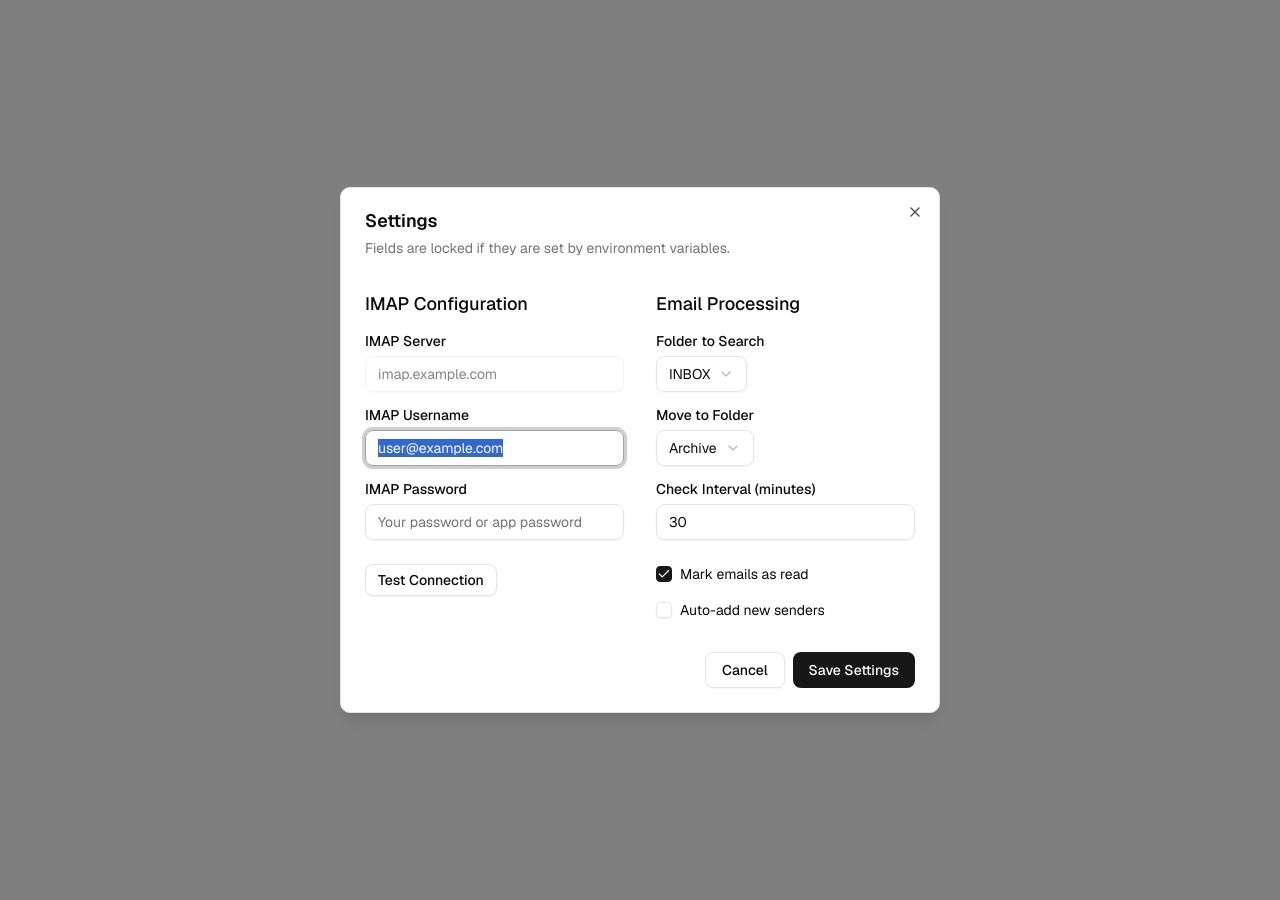
Scenario: SettingsDialog › handles failed connection test
Click the button "Test Connection" at (431,580), box [365,564,497,596]
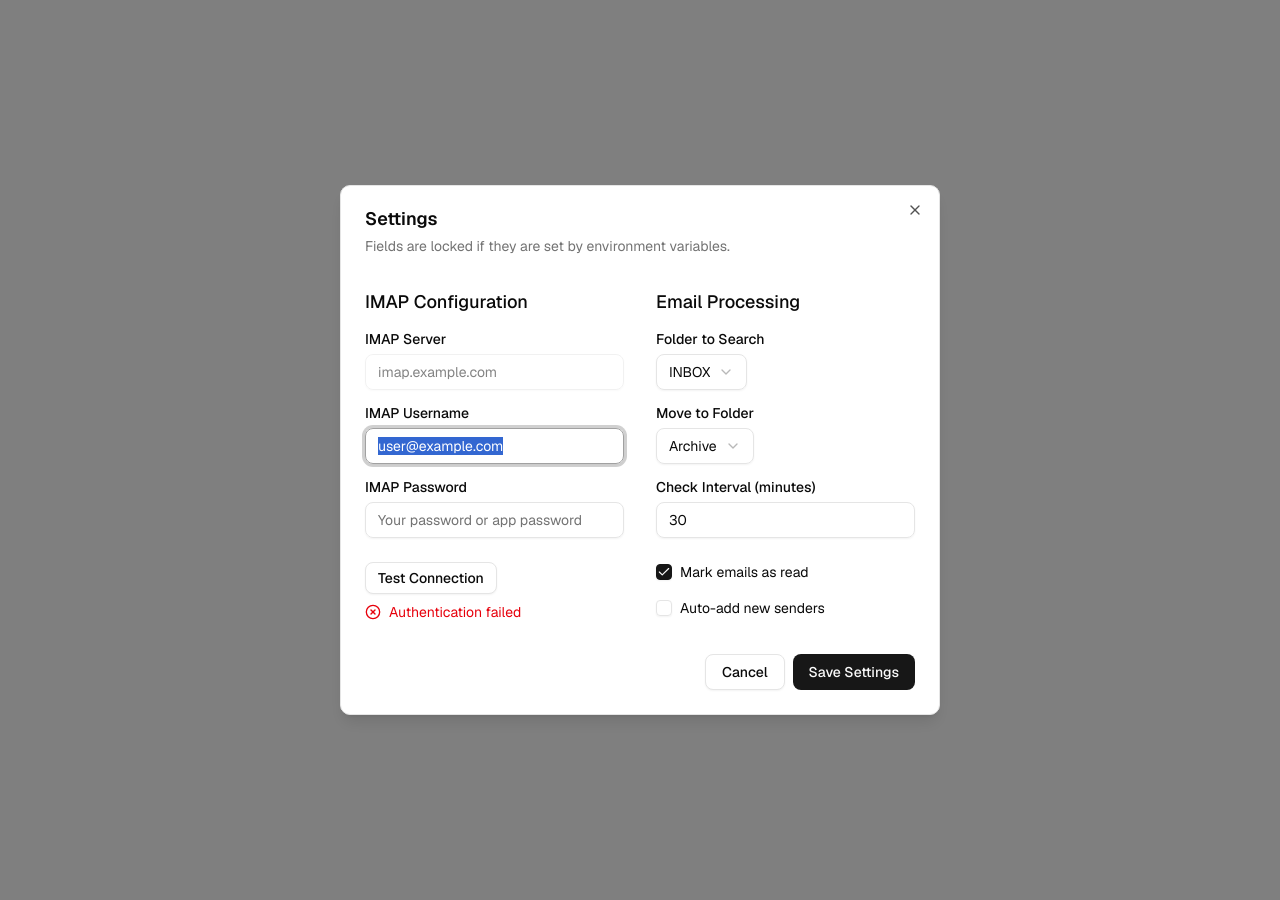
Result: the text "Authentication failed" is shown at [365,603,521,621]
